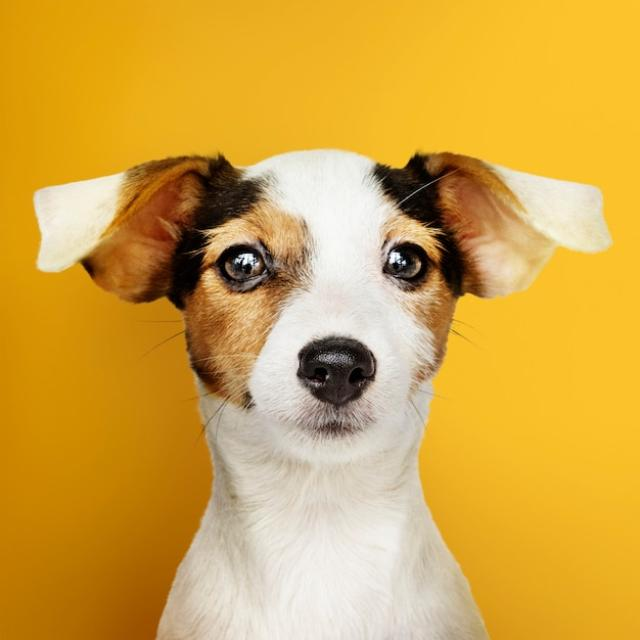Dog: (33, 151, 611, 640)
